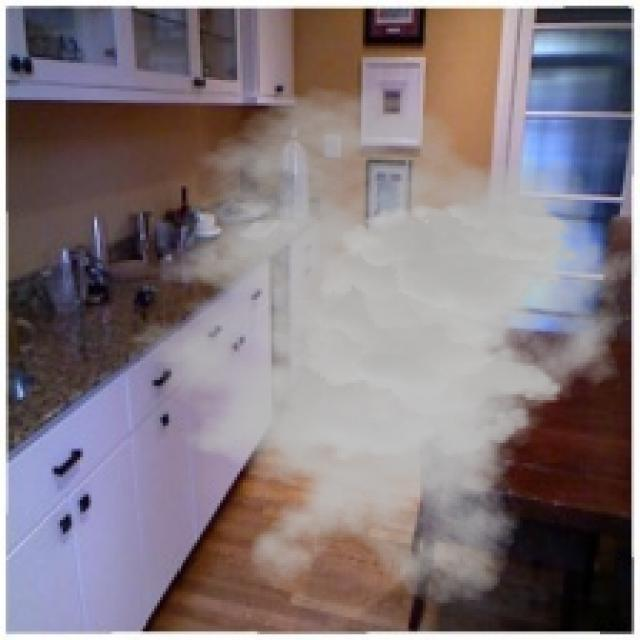Smoke: (100, 86, 637, 612)
